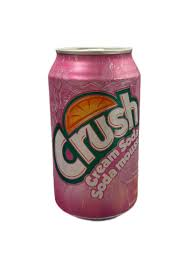can: (49, 47, 140, 221)
